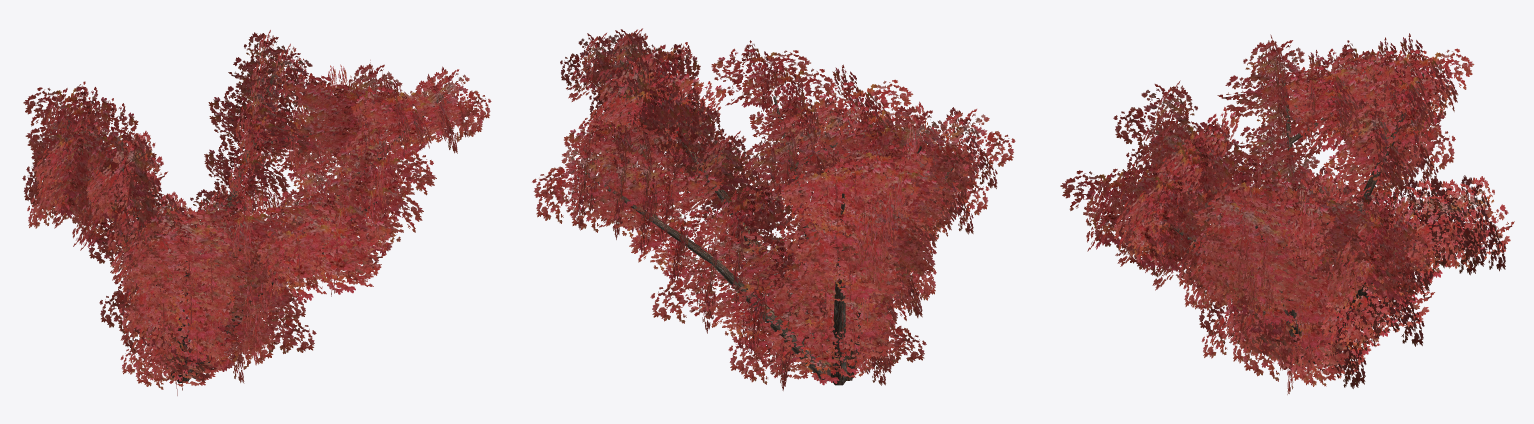
File: bush_3d_05_red_lod0.glb
3 views of the same model, side by side, from view 1: azimuth 30°, elevation 25°; view 2: azimuth 150°, elevation 25°; view 3: azimuth 270°, elevation 25° (orthographic). The views are drawn at different scales.
Visible parts, largest first — view 1: foliage_cards, wood_geometry; view 2: foliage_cards, wood_geometry; view 3: foliage_cards, wood_geometry.
Part boxes in pixels (x1,y1,x2,y2): foliage_cards: [22, 30, 491, 395]; wood_geometry: [58, 72, 443, 383]; foliage_cards: [532, 28, 1015, 390]; wood_geometry: [585, 51, 953, 385]; foliage_cards: [1060, 33, 1514, 394]; wood_geometry: [1126, 69, 1464, 364].
Bounding box in the file's own units: 2.84 × 1.72 × 2.5.
2 materials, 2 textured.
